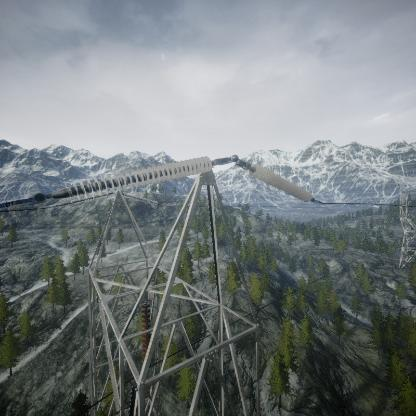insulator: (52, 155, 214, 206), (249, 162, 313, 203), (138, 302, 154, 367)
